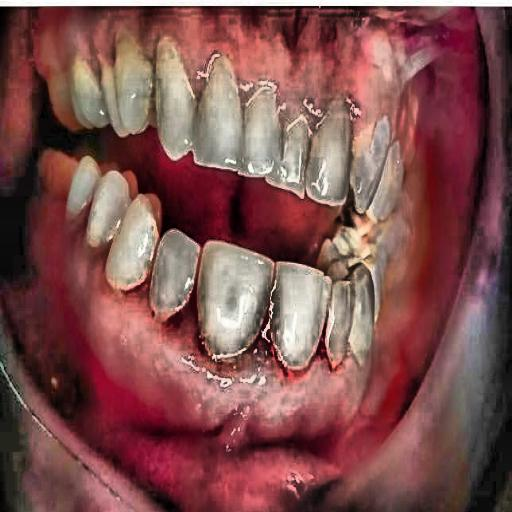Gingivitis: (182, 6, 416, 121), (116, 288, 251, 456), (241, 330, 378, 460), (41, 218, 111, 376)
